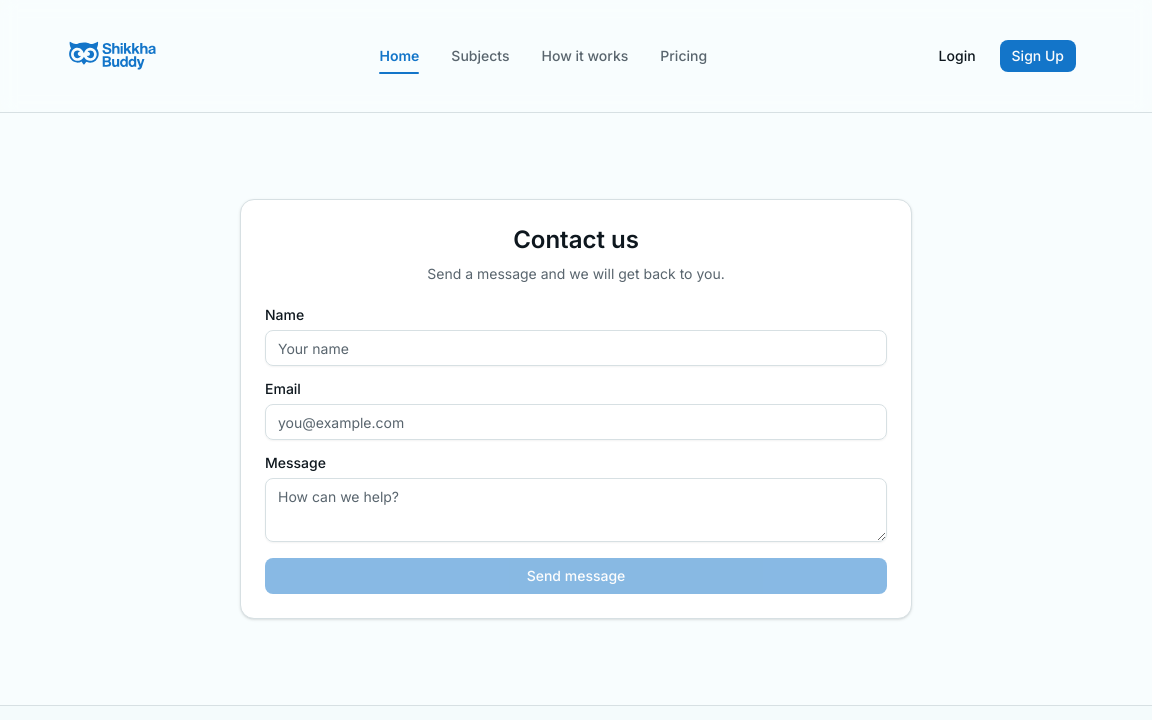
contact page › shows rate limit errors
The width and height of the screenshot is (1152, 720).
Type "Student Name" into the field labelled "Name" at (576, 348), box [265,330,887,366]
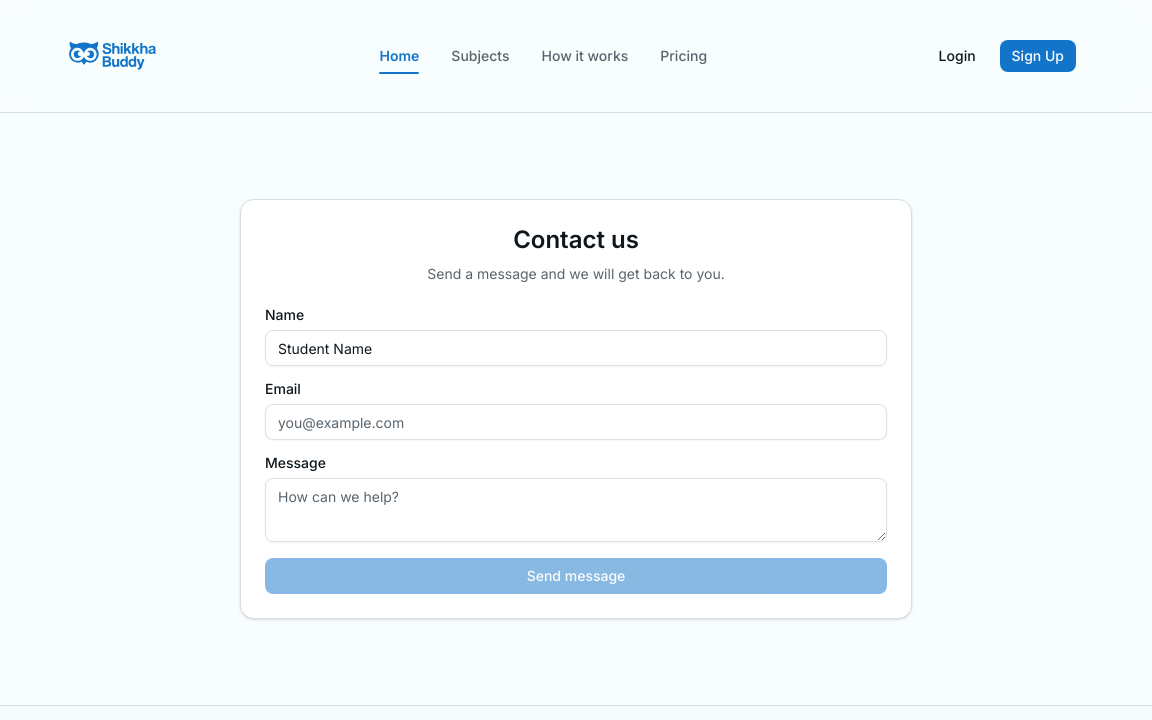
Type "student@example.com" into the field labelled "Email" at (576, 422), box [265,404,887,440]
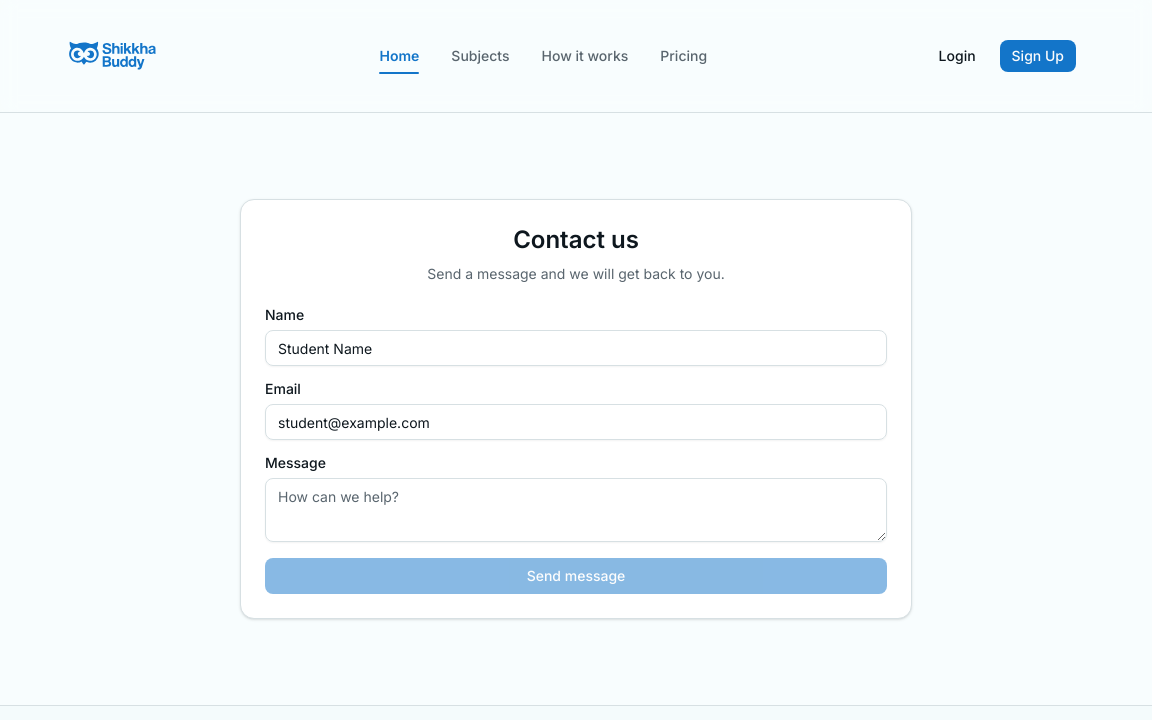
Type "I need help with the platform." into the text box labelled "Message" at (576, 510), box [265,478,887,542]
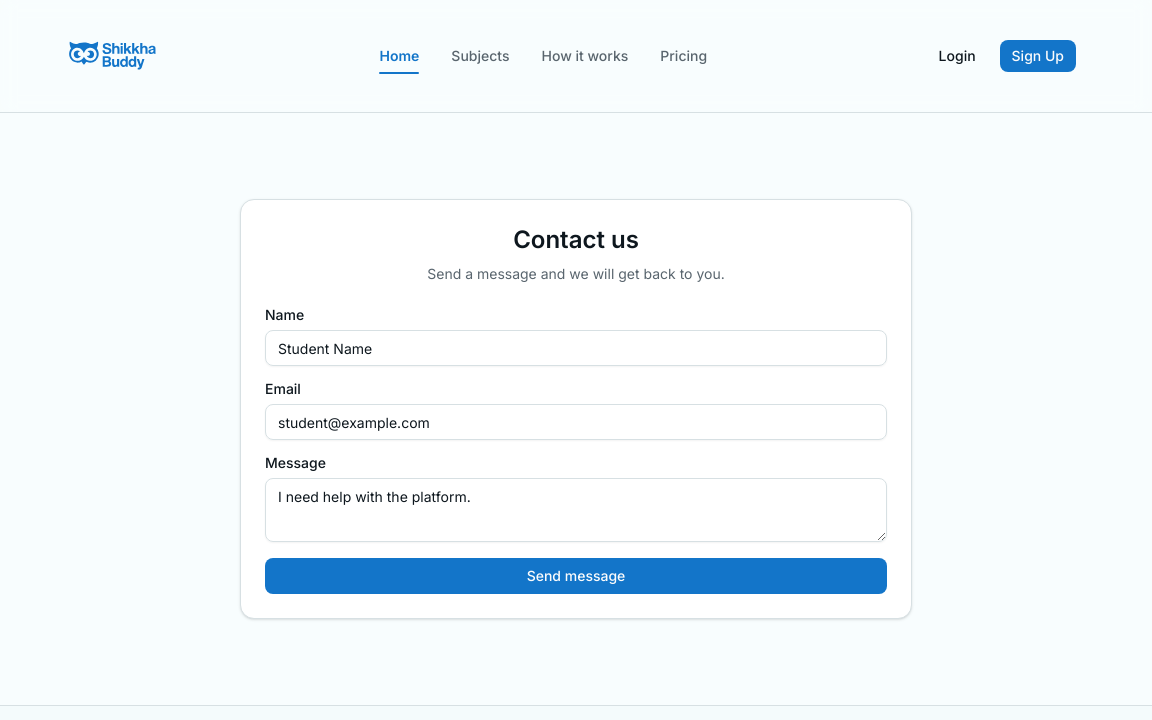
Click the button "Send message" at (576, 576), box [265,558,887,594]
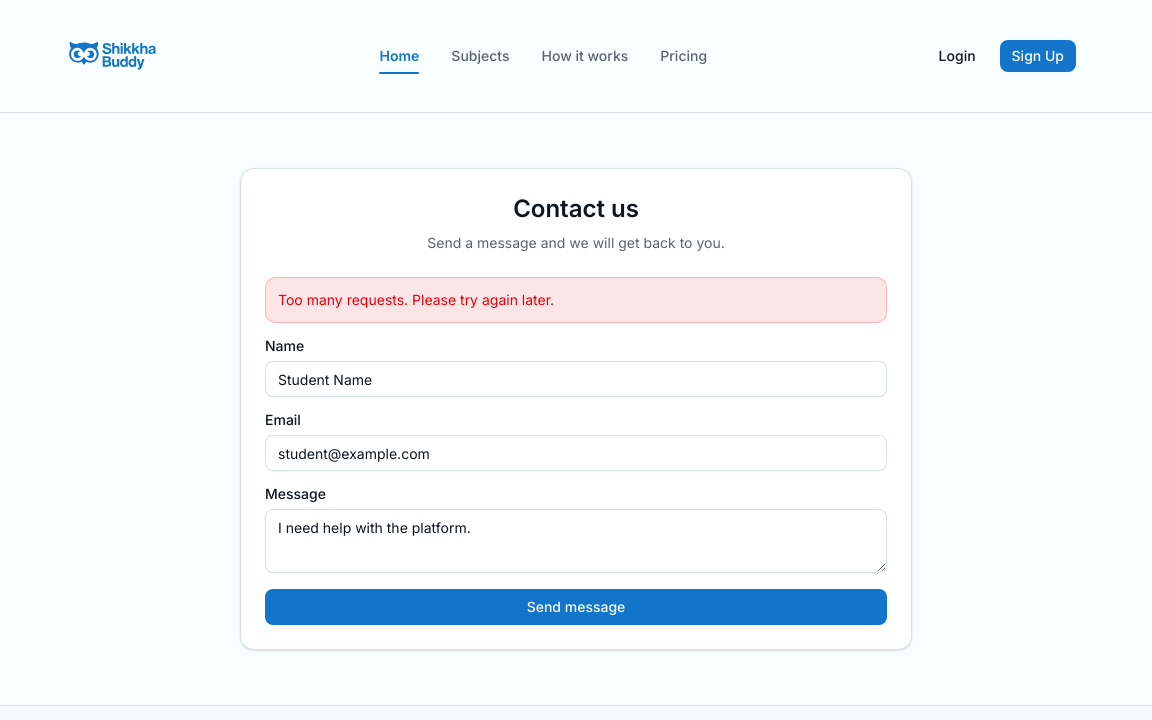
Check: the text "Too many requests. Please try again later." is shown, box [265,277,887,323]
